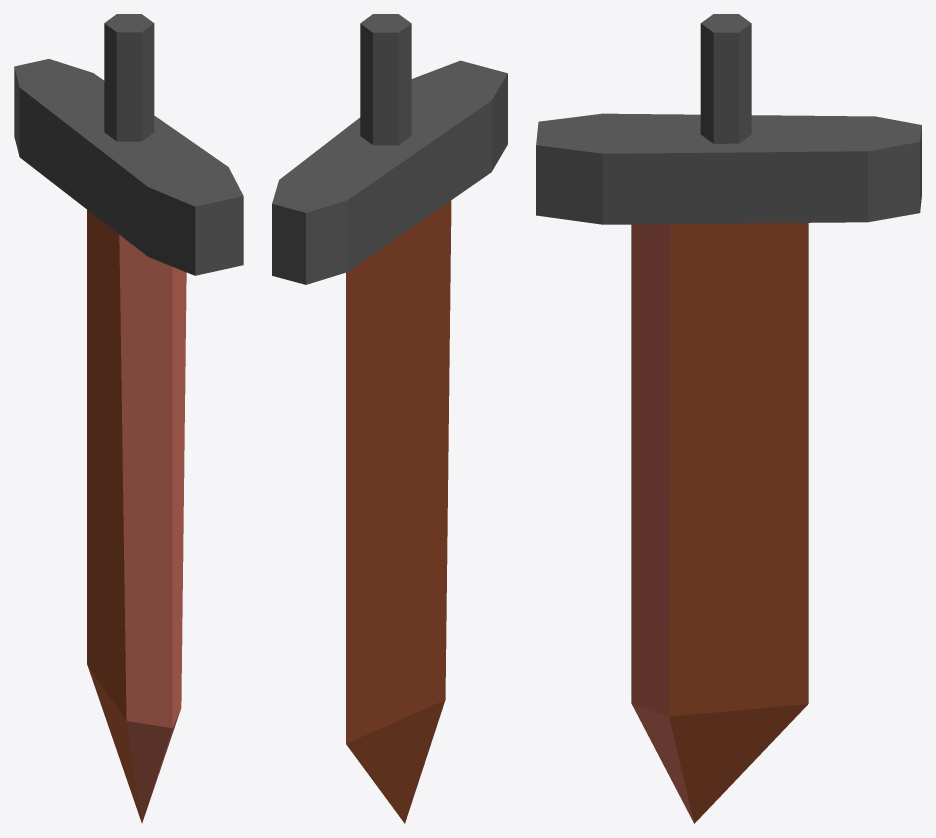
The model's file is EspadaAcolito.fbx.
3 views of the same model, side by side, from view 1: azimuth 30°, elevation 25°; view 2: azimuth 150°, elevation 25°; view 3: azimuth 270°, elevation 25° (orthographic). The views are drawn at different scales.
Parts seen in each view (by area): view 1: Empuñadura.001; view 2: Empuñadura.001; view 3: Empuñadura.001.
Boxes of the visible parts, bbox=[...] form: Empuñadura.001: bbox=[14, 14, 243, 823]; Empuñadura.001: bbox=[272, 14, 507, 823]; Empuñadura.001: bbox=[536, 14, 921, 823].
Size of the model in its own units: 8.61 by 80.3 by 35.01.
